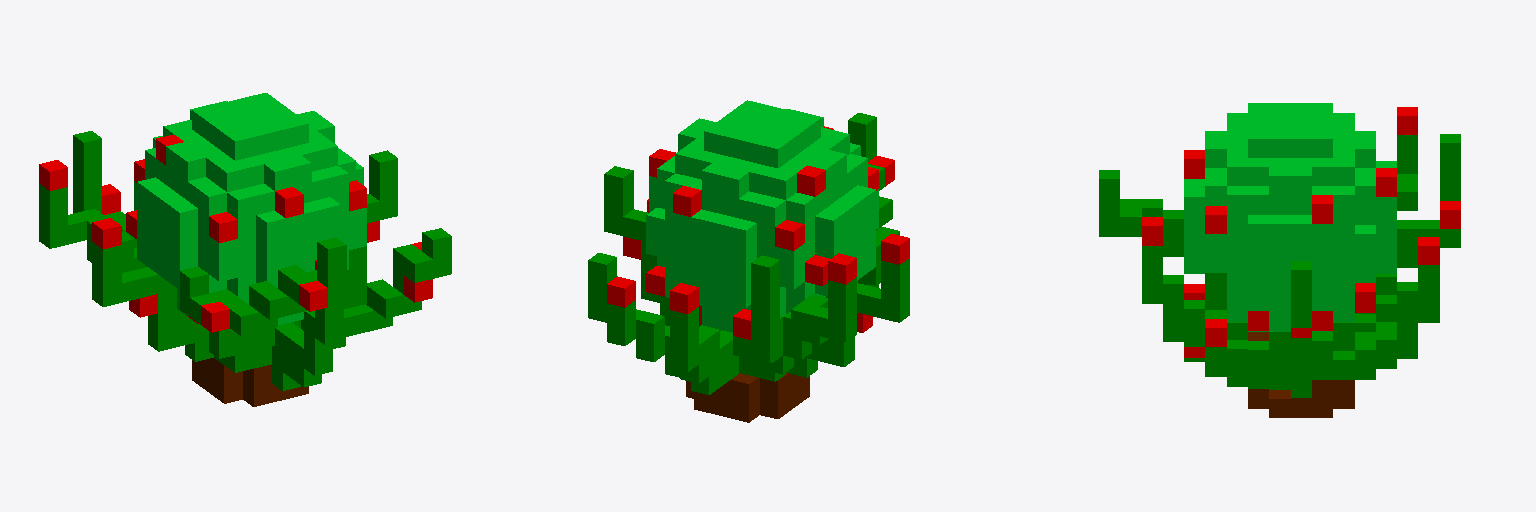
3 views of the same model, side by side, from view 1: azimuth 30°, elevation 25°; view 2: azimuth 150°, elevation 25°; view 3: azimuth 270°, elevation 25° (orthographic).
Visible parts, largest first — view 1: object 1; view 2: object 1; view 3: object 1.
Boxes of the visible parts, x1=… form: object 1: x1=39, y1=93, x2=451, y2=406; object 1: x1=588, y1=100, x2=909, y2=422; object 1: x1=1099, y1=103, x2=1460, y2=417.
Bounding box in the file's own units: 1.6 × 1.4 × 1.7.
Materials: 1 (1 with a texture image).